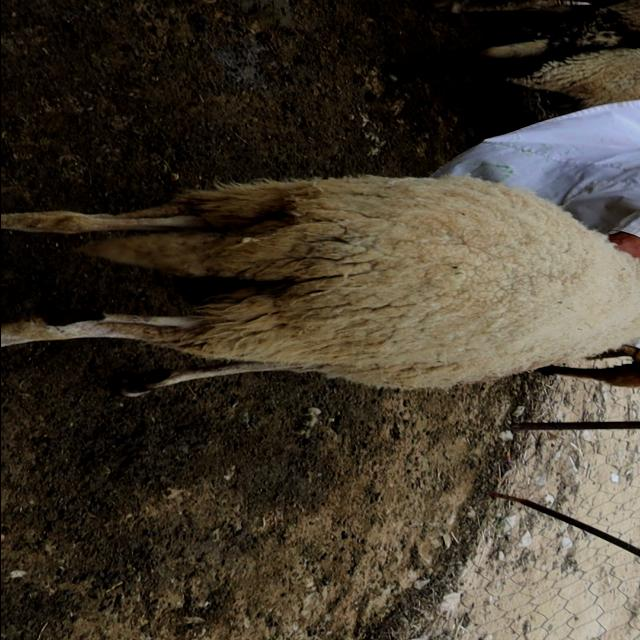Score_5: (1, 174, 640, 396)
